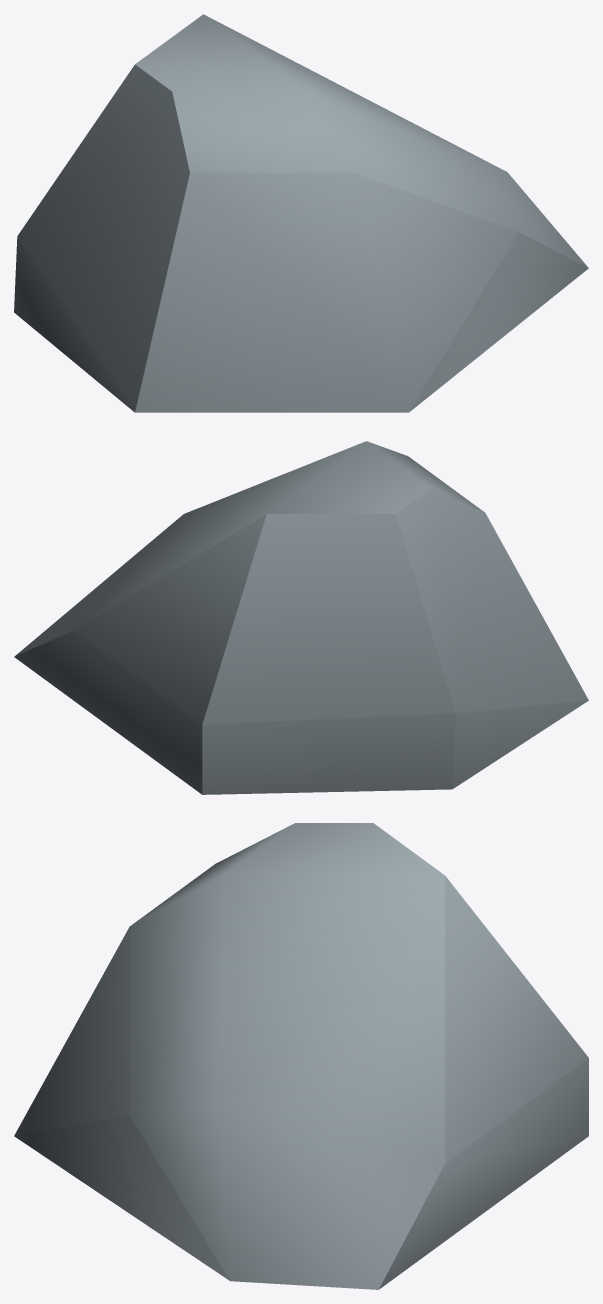
Rendered from rock_a.glb.
The picture shows the model from 3 angles, top to bottom: view 1: azimuth 30°, elevation 25°; view 2: azimuth 150°, elevation 25°; view 3: azimuth 270°, elevation 25°; orthographic projection. The views are drawn at different scales.
Visible parts, largest first — view 1: rock_A; view 2: rock_A; view 3: rock_A.
Boxes of the visible parts, <box> form: rock_A: <box>14,14,588,412</box>; rock_A: <box>14,441,588,794</box>; rock_A: <box>14,823,588,1289</box>.
Bounding box in the file's own units: 1.6 × 0.75 × 1.5.
1 material, 1 textured.
